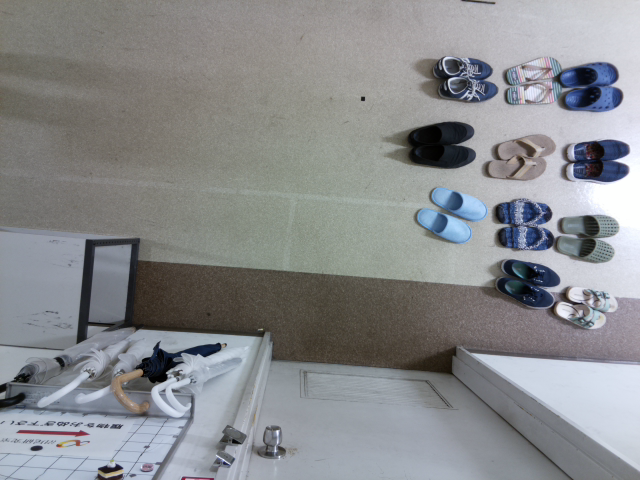Copy of Copy of Copy of Copy of Copy of Copy of Copy of sandal: (555, 300, 606, 330)
Copy of Copy of Copy of Copy of Copy of Copy of Copy of shoes: (408, 144, 476, 168)
Copy of Copy of Copy of Copy of Copy of Copy of sandal: (565, 286, 618, 312)
Copy of Copy of Copy of Copy of Copy of Copy of shoes: (407, 120, 474, 146)
Copy of Copy of Copy of Copy of Copy of sandal: (498, 224, 553, 251)
Copy of Copy of Copy of Copy of Copy of shoes: (493, 275, 554, 309)
Copy of Copy of Copy of Copy of Copy of slipper: (563, 85, 624, 113)
Copy of Copy of Copy of Copy of sandal: (496, 198, 553, 225)
Copy of Copy of Copy of Copy of shoes: (500, 258, 561, 288)
Copy of Copy of Copy of Copy of slipper: (559, 61, 619, 88)
Copy of Copy of Copy of sandal: (487, 154, 546, 180)
Copy of Copy of Copy of shoes: (432, 55, 493, 79)
Copy of Copy of Copy of slipper: (560, 213, 619, 237)
Copy of Copy of sandal: (496, 132, 556, 160)
Copy of Copy of shoes: (438, 76, 498, 103)
Copy of Copy of slipper: (554, 234, 614, 263)
Copy of sandal: (505, 81, 562, 104)
Copy of shoes: (565, 160, 629, 185)
Copy of slipper: (415, 207, 471, 243)
sandal: (505, 56, 561, 84)
shoes: (565, 138, 631, 162)
slipper: (429, 186, 487, 221)
